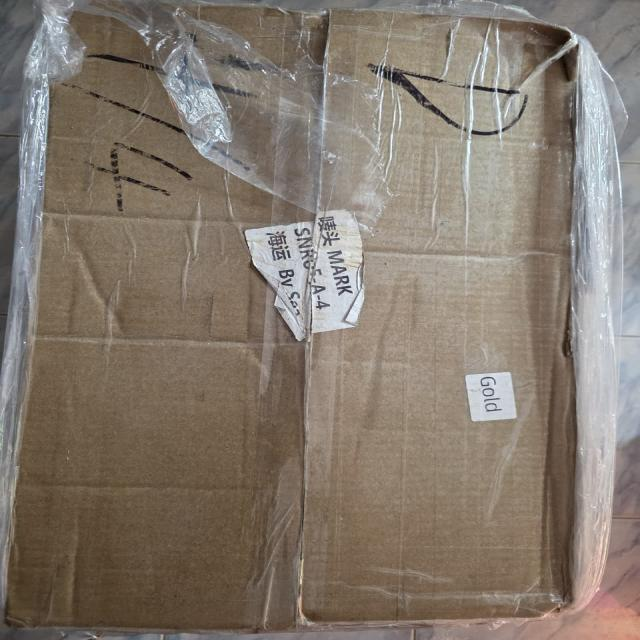carton_box: (12, 1, 608, 640)
export_mark_label: (237, 193, 400, 361)
package_damage: (288, 0, 362, 121)
